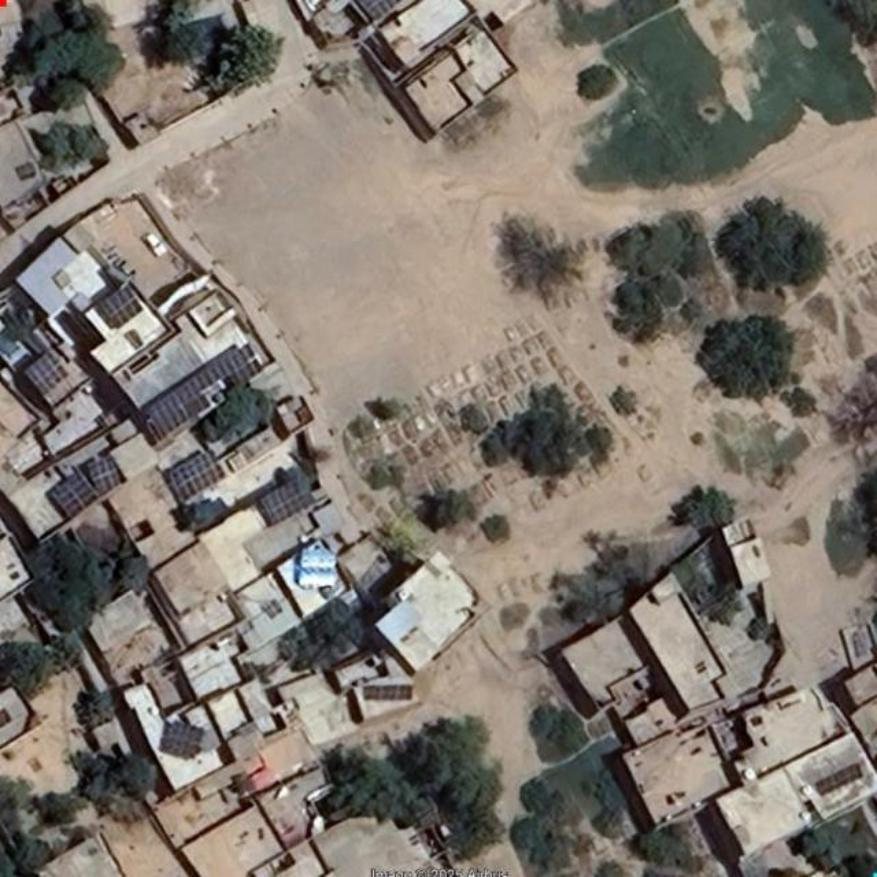Solarpanel: (141, 345, 251, 444), (171, 451, 228, 503), (45, 470, 98, 518), (259, 478, 311, 524), (23, 349, 70, 396), (98, 287, 141, 329), (160, 722, 204, 759), (299, 549, 336, 586), (87, 456, 121, 495), (357, 0, 405, 20), (364, 686, 412, 698)
